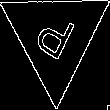P_SW: (30, 6, 81, 68)
